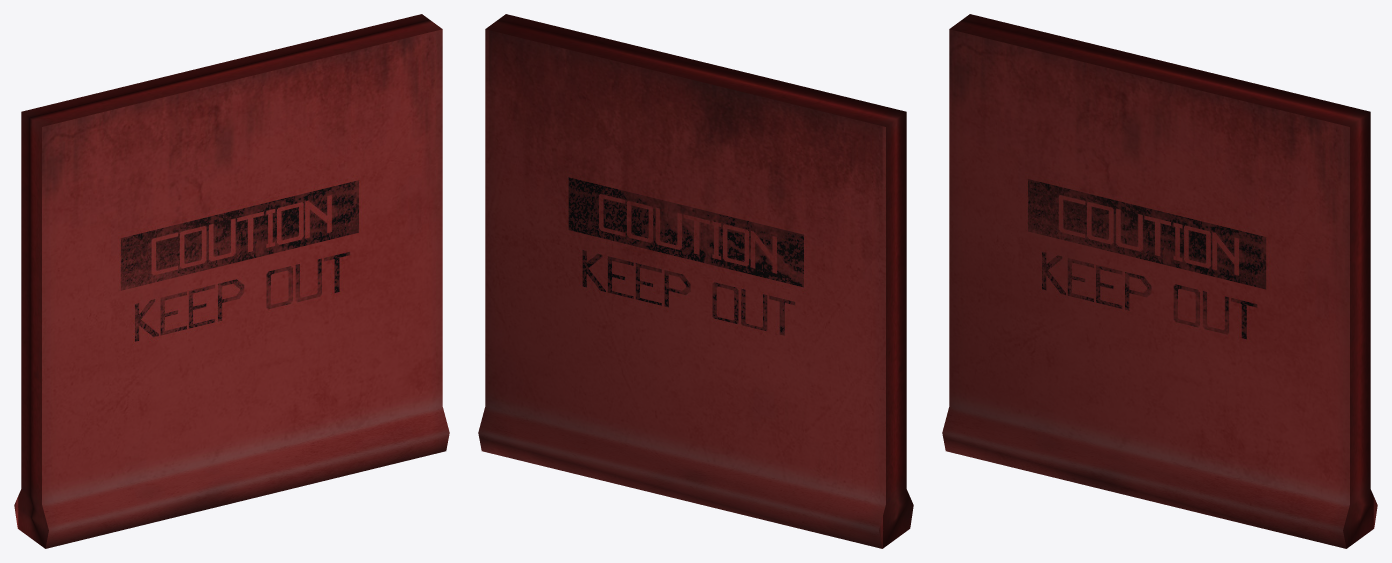
Rendered from shutter.fbx.
3 renders of one model, left to right at view 1: azimuth 30°, elevation 25°; view 2: azimuth 150°, elevation 25°; view 3: azimuth 330°, elevation 25°, orthographic.
Parts seen in each view (by area): view 1: Cube; view 2: Cube; view 3: Cube.
Boxes of the visible parts, left/top/right/bottom form: Cube: left=14, top=14, right=449, bottom=548; Cube: left=478, top=14, right=913, bottom=548; Cube: left=942, top=14, right=1377, bottom=548.
Bounding box in the file's own units: 2 × 2 × 0.3.
